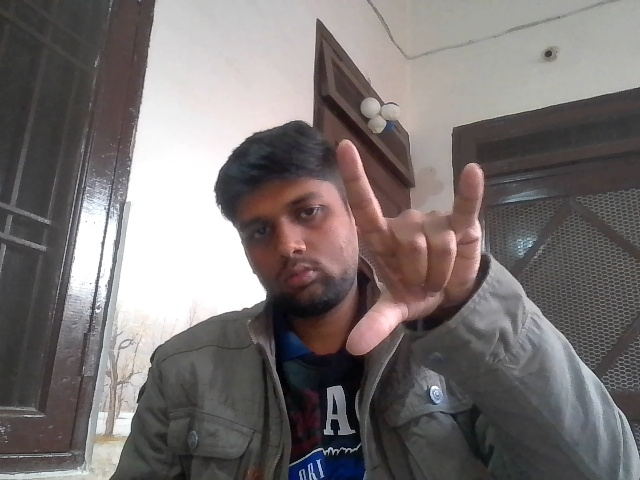ILoveYou: (315, 127, 495, 365)
